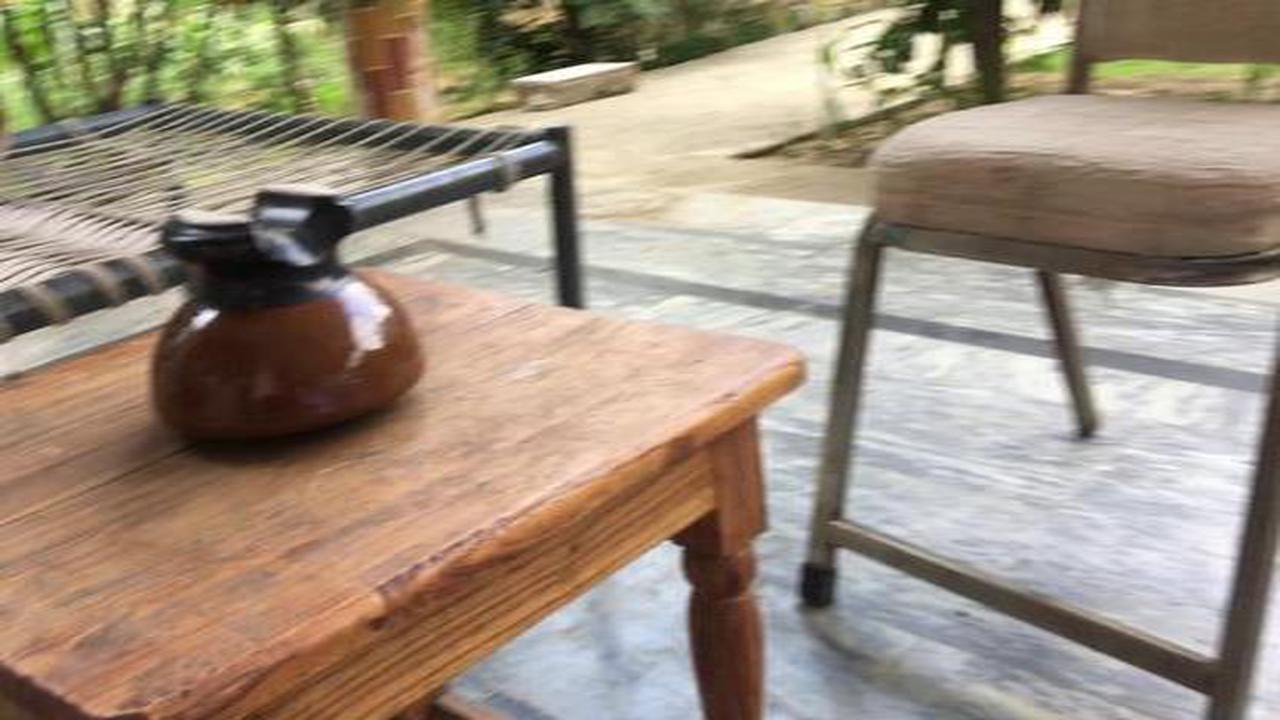insulator_pin: (114, 174, 431, 473)
